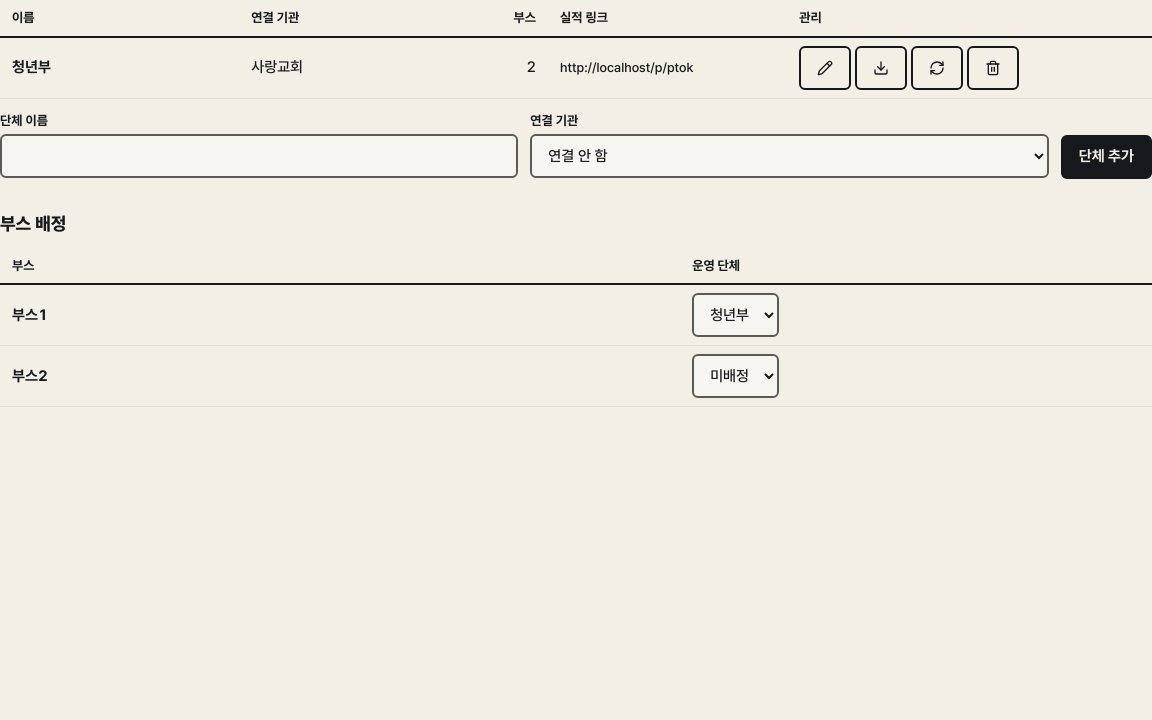
Test case: 운영 단체 탭 › 삭제하면 화면에서 그 단체의 링크가 사라진다
Step 1. Click the button named "청년부 삭제" → {"x": 993, "y": 68}, box x1=967 y1=46 x2=1019 y2=90
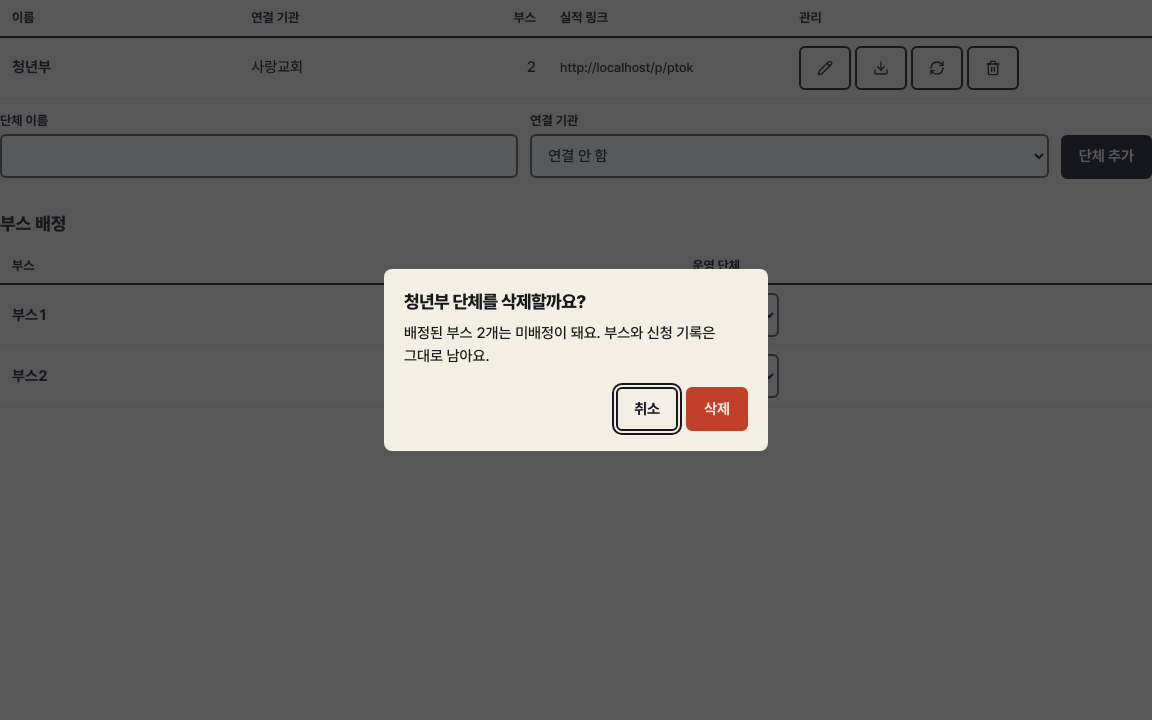
Step 2. Click the button "삭제" → {"x": 717, "y": 409}, box x1=686 y1=387 x2=748 y2=431
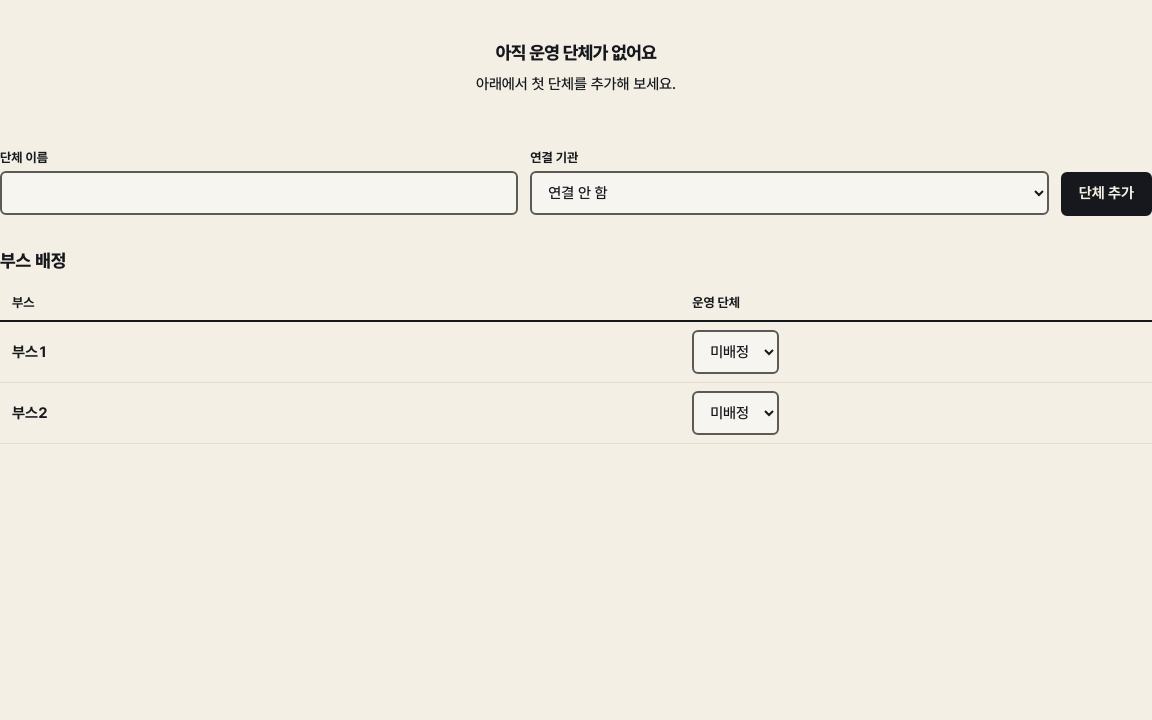
Result: the text "아직 운영 단체가 없어요" is shown at x1=496 y1=42 x2=656 y2=63
